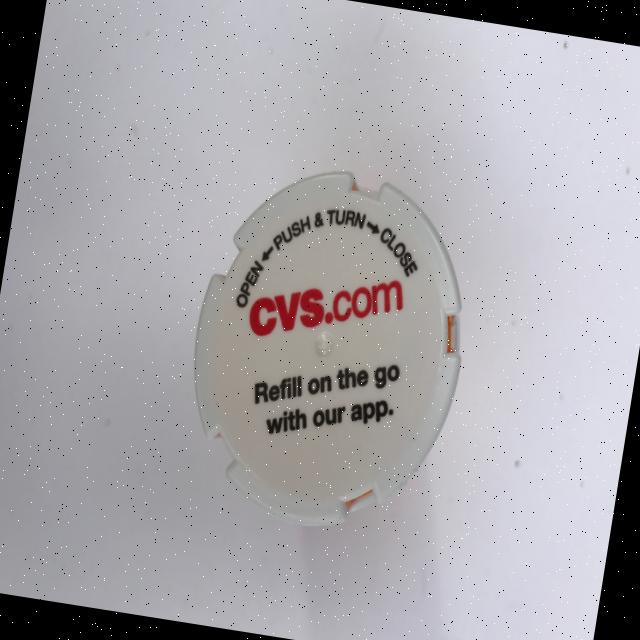plastic: (168, 150, 488, 546)
